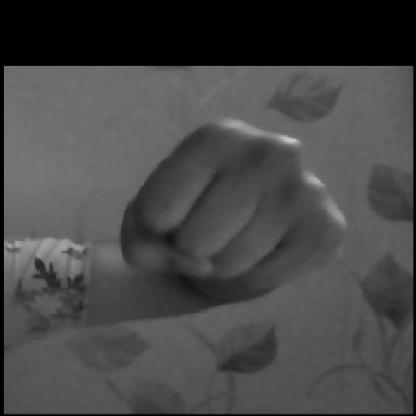fist: (108, 102, 363, 364)
